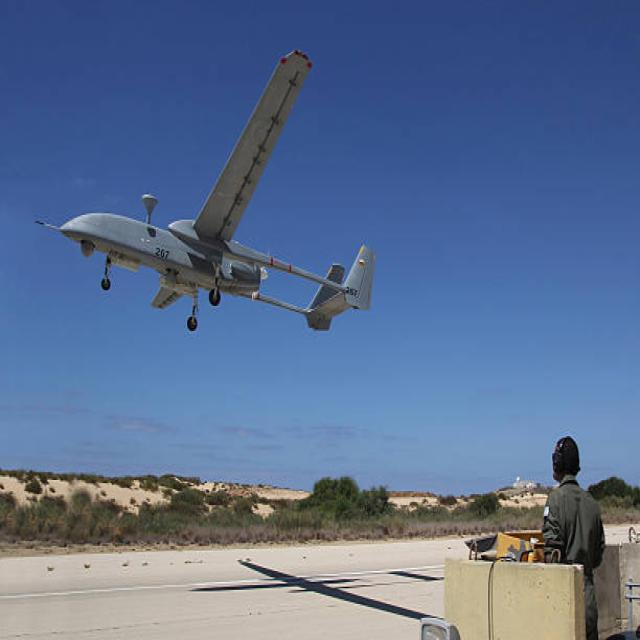iha: (32, 46, 381, 336)
